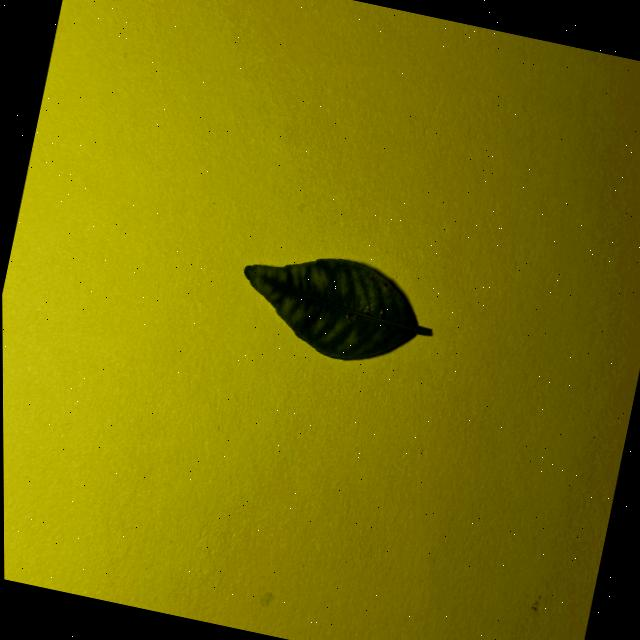greening: (243, 258, 430, 360)
